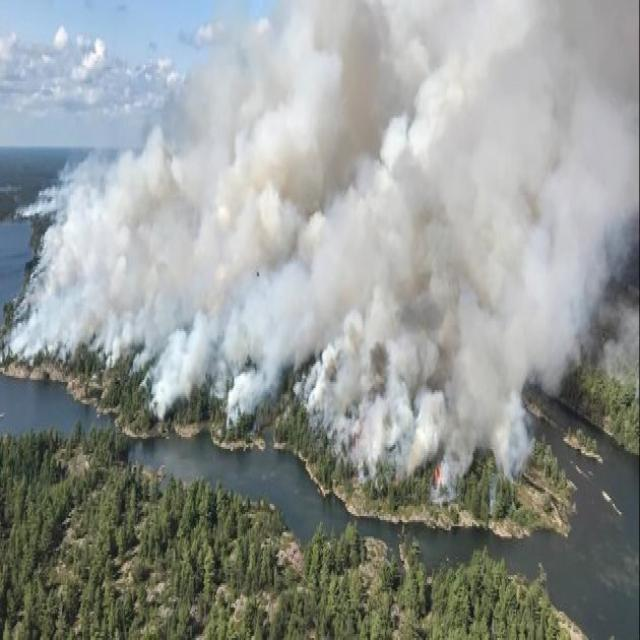smoke: (290, 11, 628, 331), (71, 162, 283, 344), (330, 339, 515, 434)
